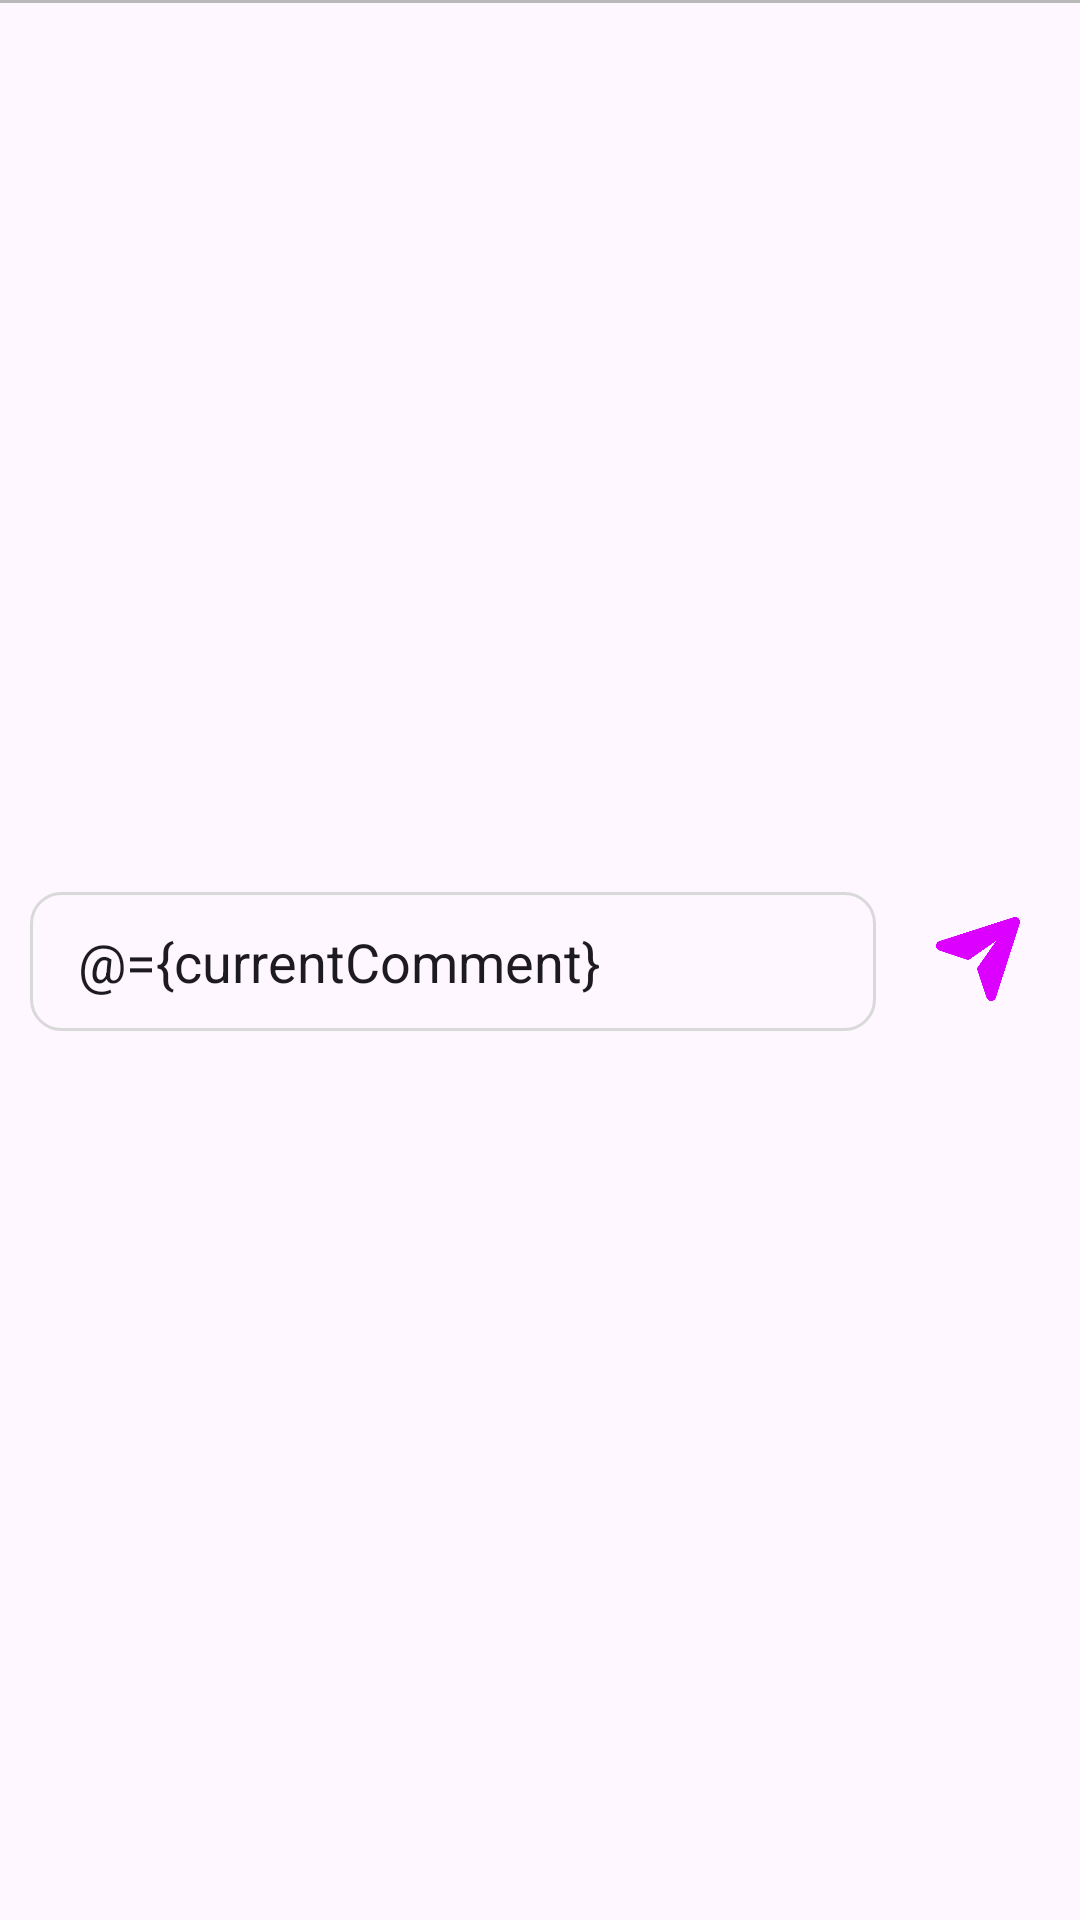

Named icons in this screenshot (1080px x 1920px) and their bounding boxes, (x1, y1, x2, y2):
send: (936, 917, 1020, 1001)
